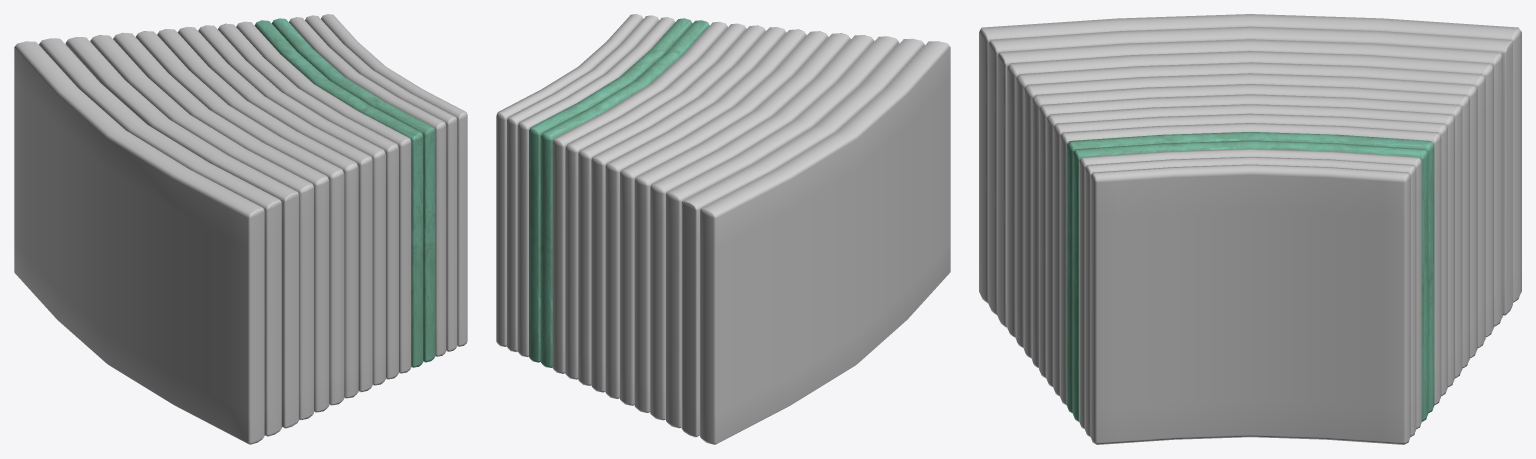
The model's file is baumkuchen-2.fbx.
The picture shows the model from 3 angles, left to right: view 1: azimuth 30°, elevation 25°; view 2: azimuth 150°, elevation 25°; view 3: azimuth 270°, elevation 25°; orthographic projection. The views are drawn at different scales.
Parts seen in each view (by area): view 1: polySurface25; view 2: polySurface25; view 3: polySurface25.
Part boxes in pixels (bbox=[...]): polySurface25: bbox=[14, 14, 467, 444]; polySurface25: bbox=[496, 14, 950, 444]; polySurface25: bbox=[979, 14, 1521, 444].
Bounding box in the file's own units: 16.1 × 12.18 × 22.22.
